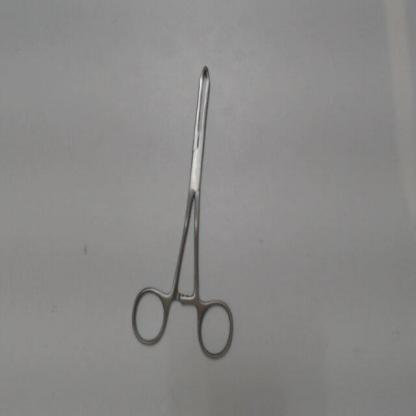Allis Tissue Forceps: (122, 51, 243, 368)
